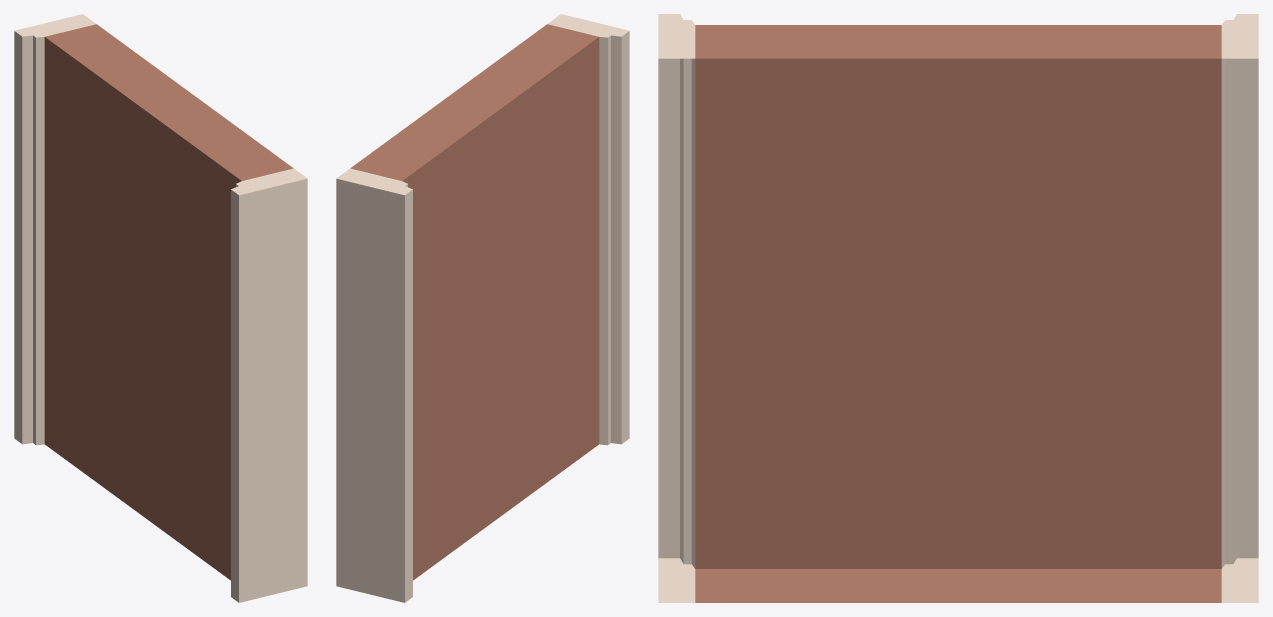
The model's file is O_V_F_Type6_Blank.fbx.
The picture shows the model from 3 angles, left to right: view 1: azimuth 30°, elevation 25°; view 2: azimuth 150°, elevation 25°; view 3: azimuth 270°, elevation 25°; orthographic projection. The views are drawn at different scales.
Visible parts, largest first — view 1: Box031; view 2: Box031; view 3: Box031.
Boxes of the visible parts, box(x1,y1,x2,y2) form: Box031: box(14, 14, 307, 602); Box031: box(336, 14, 629, 602); Box031: box(658, 14, 1258, 602).
Bounding box in the file's own units: 0.5287 × 3 × 3.
